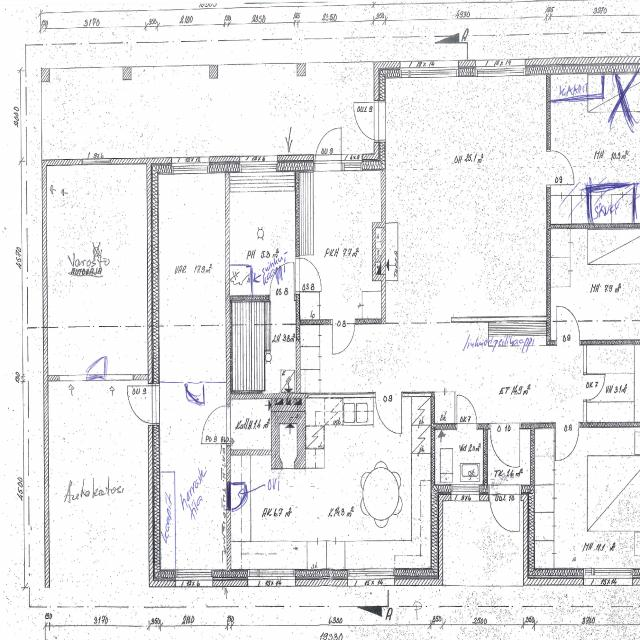door: (489, 485, 519, 544), (315, 117, 341, 173), (122, 385, 160, 423), (347, 102, 385, 140), (490, 423, 519, 472), (198, 405, 230, 444), (376, 393, 402, 437), (270, 260, 294, 301), (546, 150, 574, 184), (556, 306, 580, 345), (555, 423, 578, 463), (295, 258, 322, 292), (332, 319, 355, 357), (184, 375, 204, 411), (457, 394, 476, 430), (225, 482, 249, 510), (86, 347, 105, 381), (583, 374, 604, 400)
